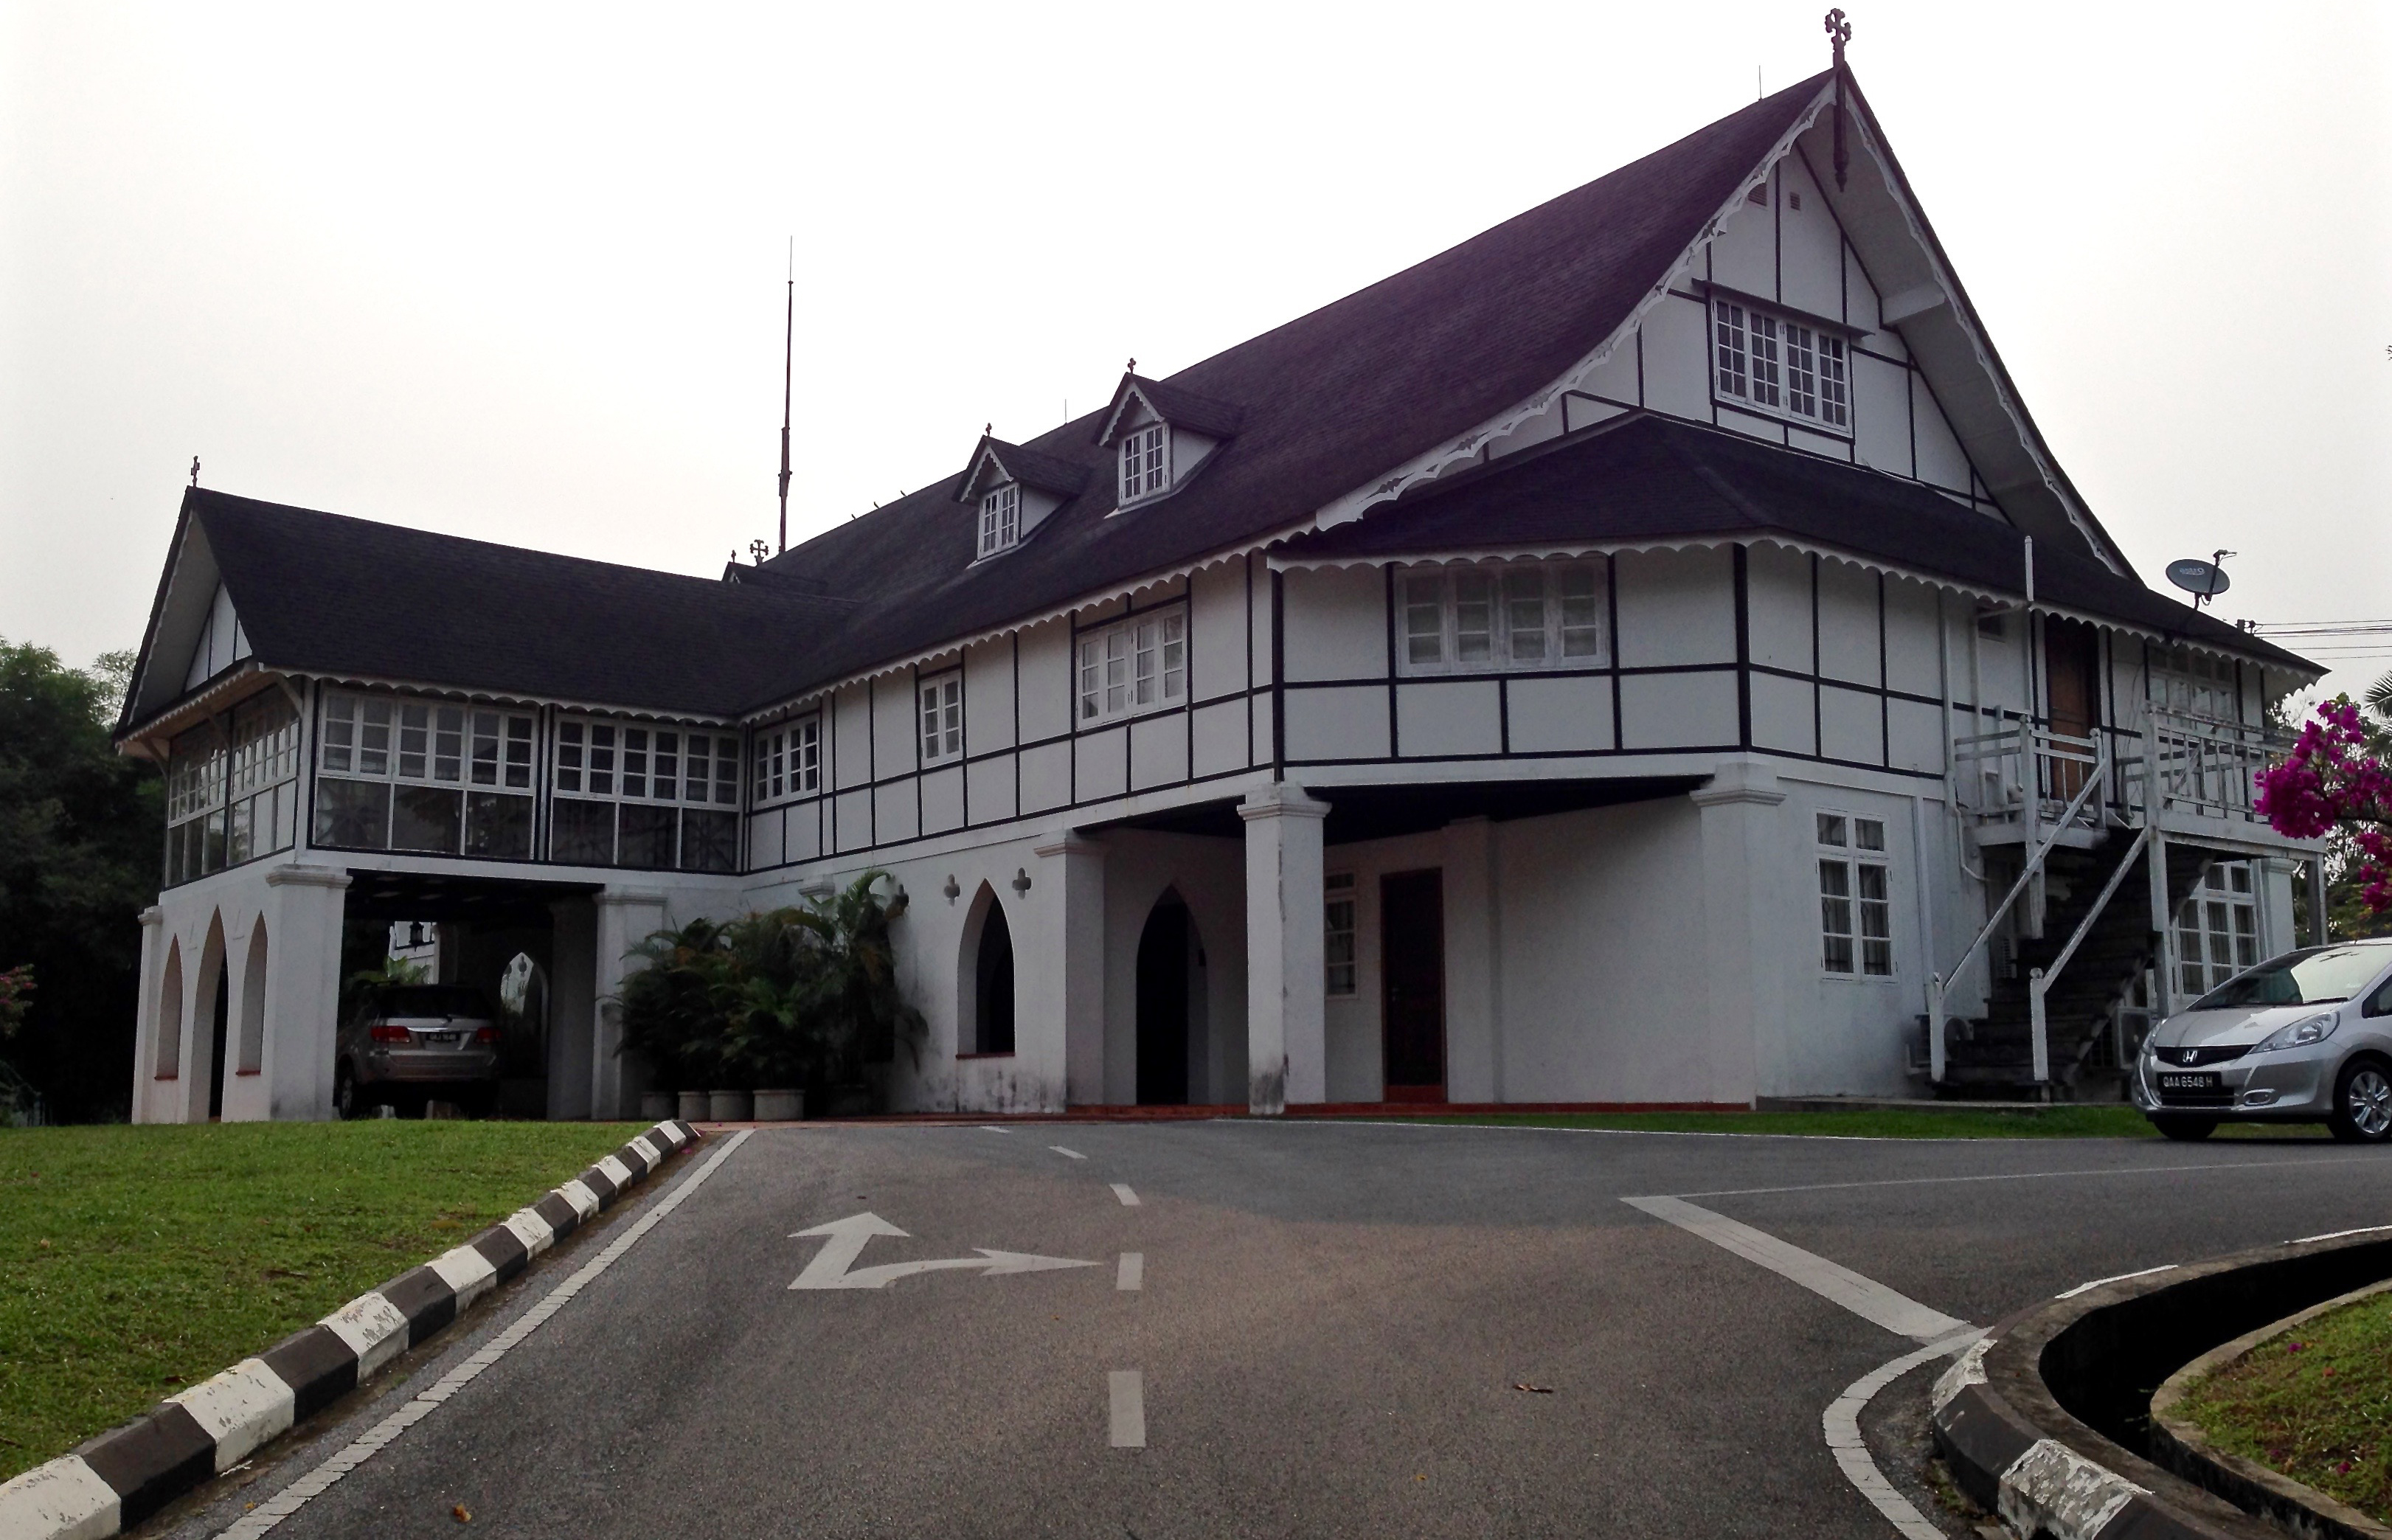Church: (106, 47, 2162, 1109)
